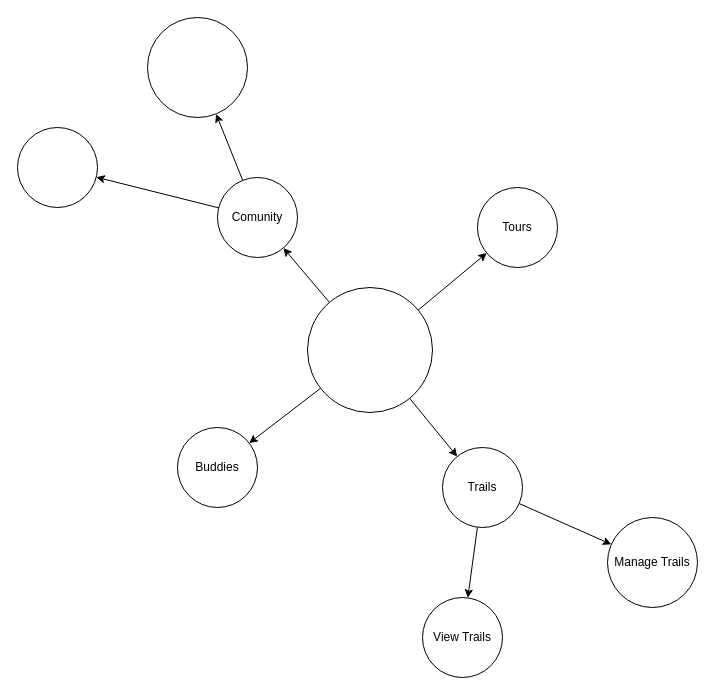
This 715x695 diagram has some shape labels left out. The box of each missing label's shape, as (x1, y1, x2, y2) in pixels:
Manage Posts: (146, 16, 248, 118)
Sentang: (306, 286, 432, 412)
View Posts: (16, 126, 98, 208)
